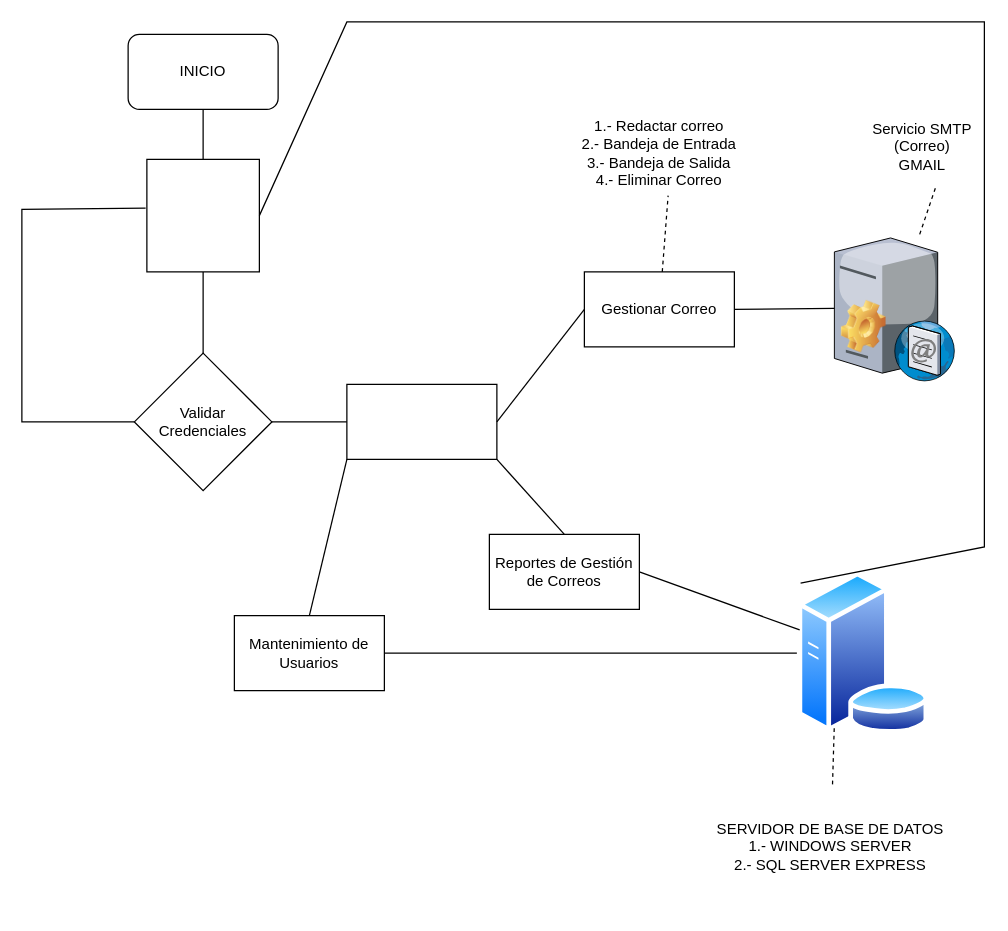
Image size: 1008x931. Some labels were removed from this diagram. Each missing label, with the centre of its shape:
"INICIO DE SESIÓN" belongs at pixel 202 215.
"Menu Principal" belongs at pixel 421 421.
